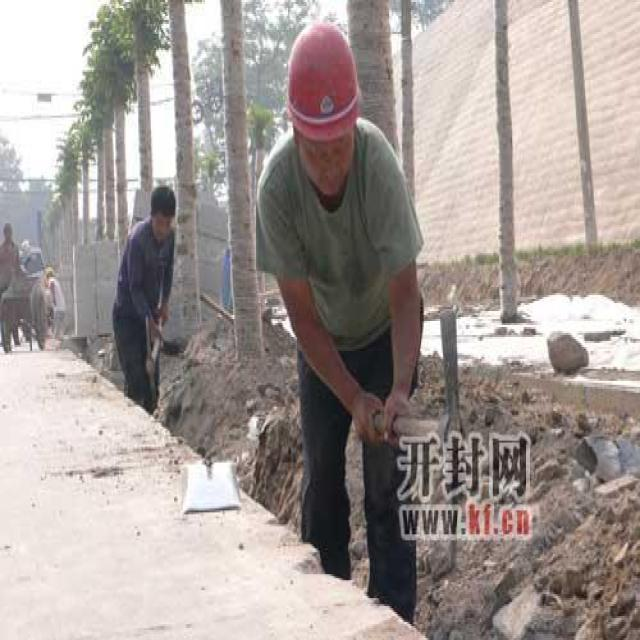helmet: (278, 16, 366, 193)
no-helmet: (142, 182, 182, 244)
